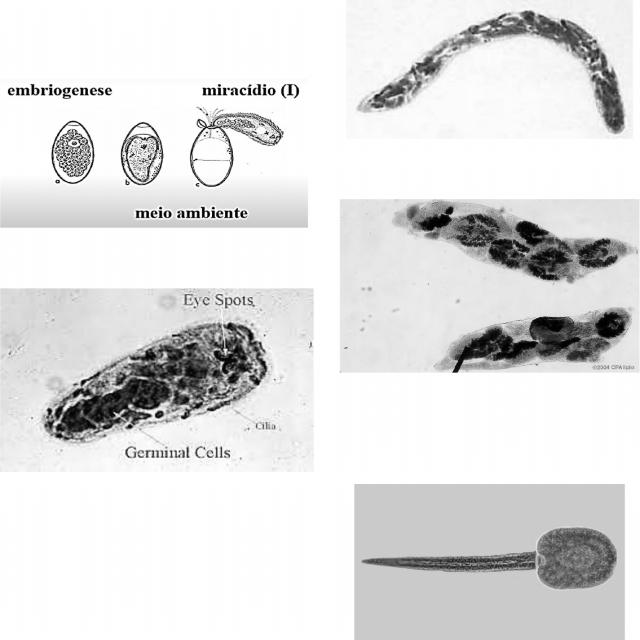Fasciola Hepatica: (47, 115, 108, 186)
